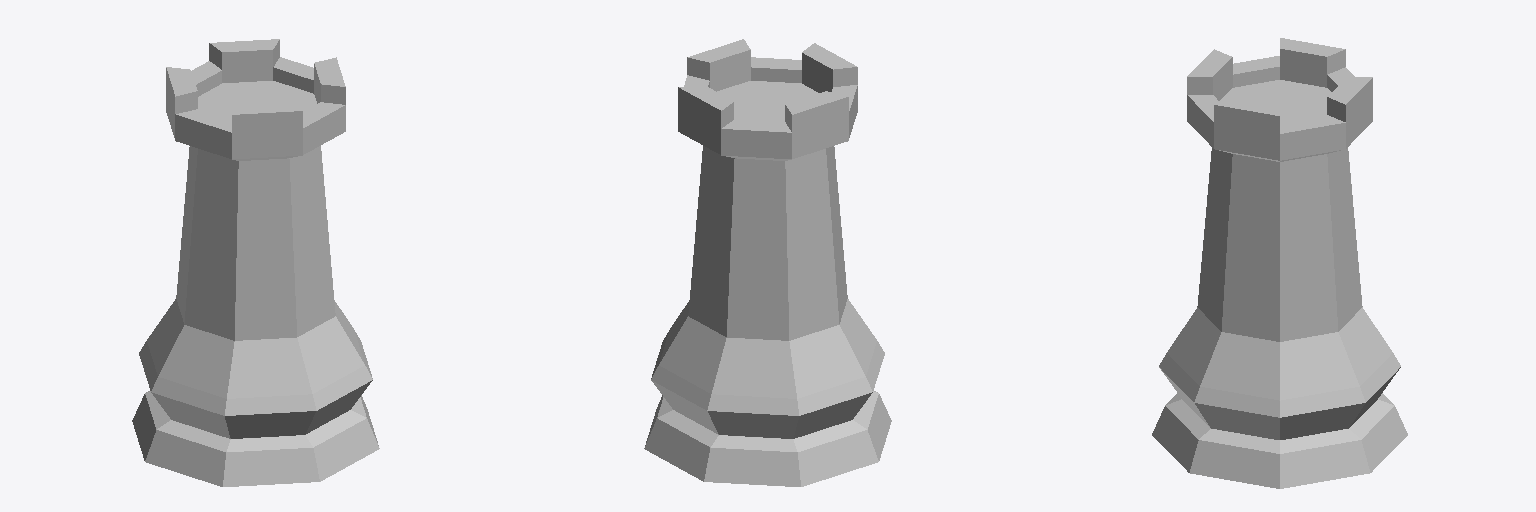
Rendered from Castle.obj.
The picture shows the model from 3 angles: view 1: azimuth 30°, elevation 25°; view 2: azimuth 150°, elevation 25°; view 3: azimuth 270°, elevation 25°; orthographic projection.
Visible parts, largest first — view 1: LPRook_Cylinder.013; view 2: LPRook_Cylinder.013; view 3: LPRook_Cylinder.013.
Boxes of the visible parts, box(x1,y1,x2,y2) form: LPRook_Cylinder.013: box(132, 39, 379, 486); LPRook_Cylinder.013: box(644, 39, 891, 486); LPRook_Cylinder.013: box(1152, 38, 1407, 488).
Size of the model in its own units: 3 by 4.62 by 3.